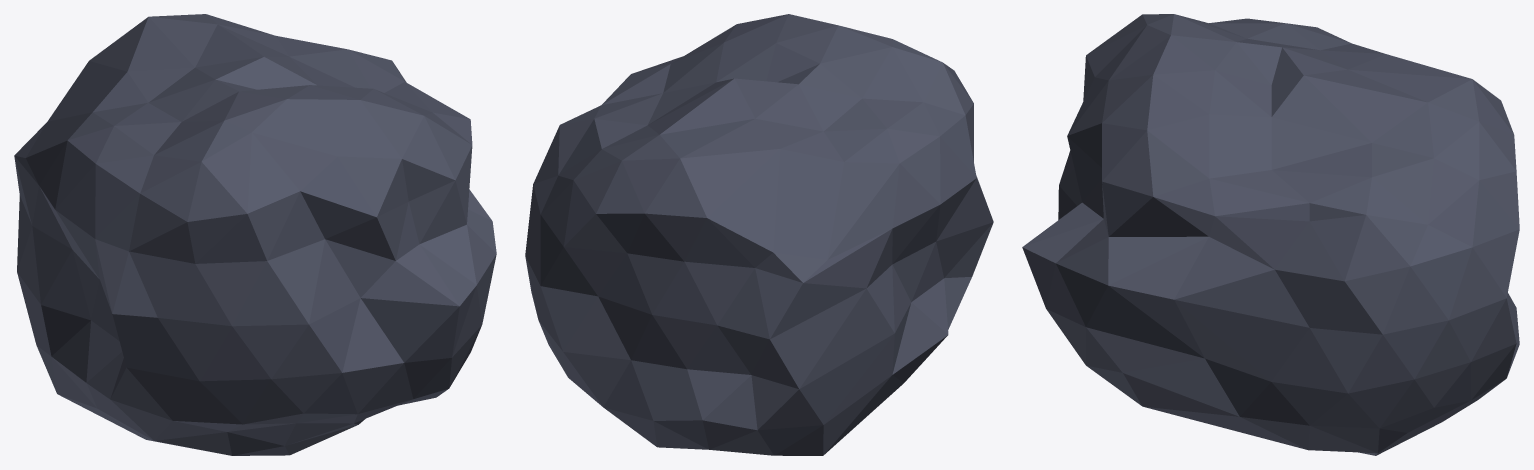
File: asteroid.fbx
3 views of the same model, side by side, from view 1: azimuth 30°, elevation 25°; view 2: azimuth 150°, elevation 25°; view 3: azimuth 270°, elevation 25° (orthographic). The views are drawn at different scales.
Parts seen in each view (by area): view 1: Icosphere; view 2: Icosphere; view 3: Icosphere.
Part boxes in pixels (left/top/right/bottom): Icosphere: left=14, top=14, right=496, bottom=455; Icosphere: left=525, top=14, right=993, bottom=455; Icosphere: left=1022, top=14, right=1519, bottom=455.
Bounding box in the file's own units: 411 × 366 × 453.
1 material, 1 textured.
